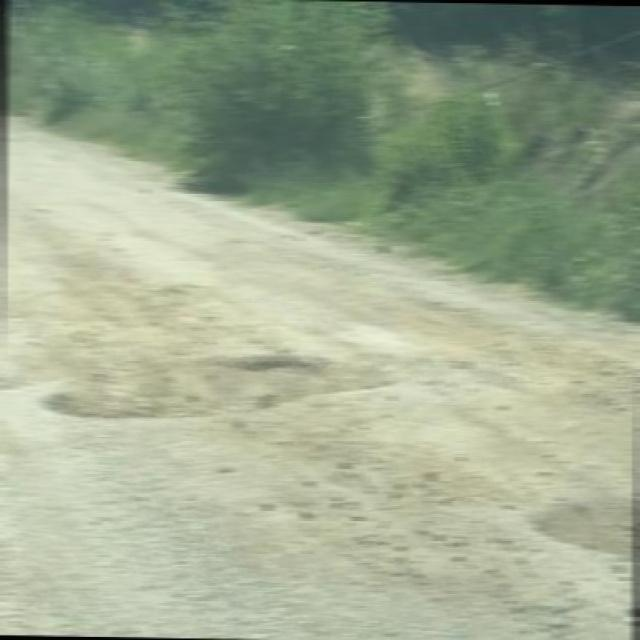Pothole: (29, 346, 412, 424), (519, 474, 640, 559)
